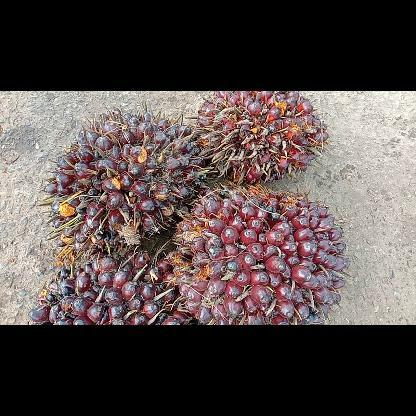Kurang masak: (40, 104, 214, 258), (192, 90, 330, 184), (26, 248, 194, 324)
TBS masak: (172, 181, 350, 324)
